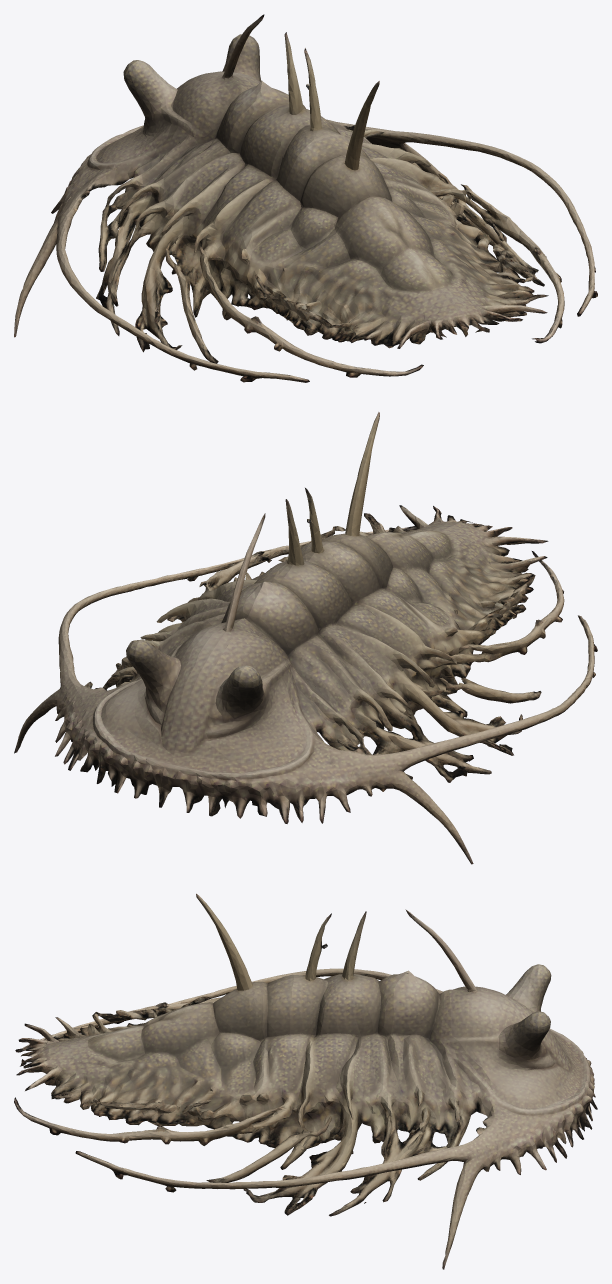
3 views of the same model, one above another, from view 1: azimuth 30°, elevation 25°; view 2: azimuth 150°, elevation 25°; view 3: azimuth 270°, elevation 25° (orthographic). The views are drawn at different scales.
Visible parts, largest first — view 1: world; view 2: world; view 3: world.
Boxes of the visible parts, left/top/right/bottom form: world: left=14, top=14, right=597, bottom=382; world: left=14, top=412, right=597, bottom=864; world: left=14, top=893, right=597, bottom=1269.
Bounding box in the file's own units: 0.8491 × 0.516 × 0.9978.
Materials: 1 (1 with a texture image).
